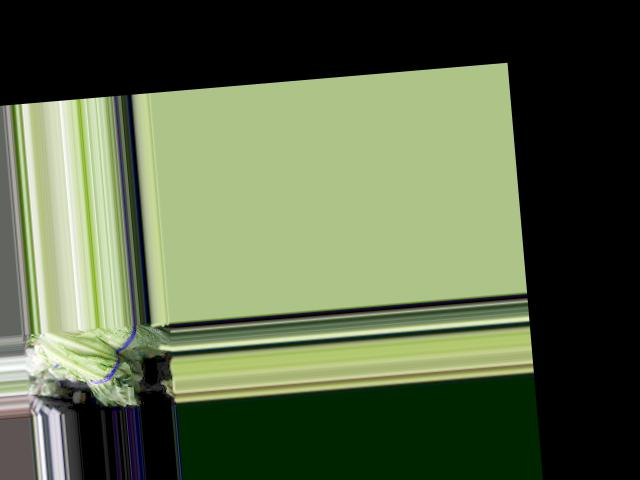lettuce: (44, 324, 142, 406)
